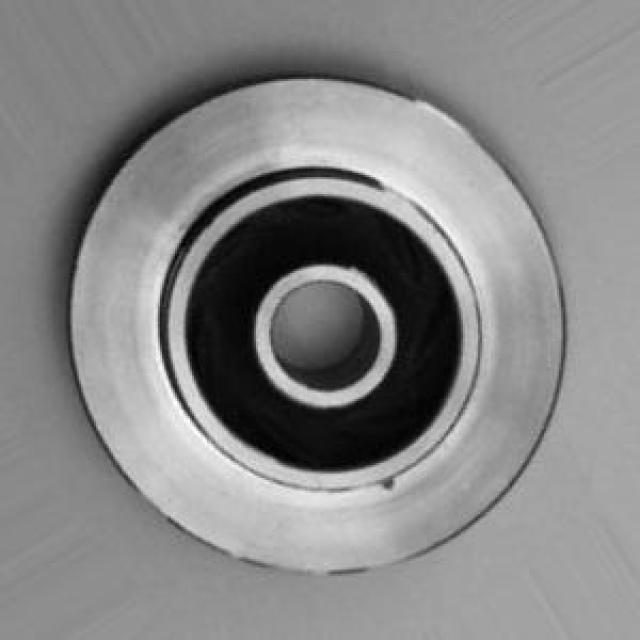Defect: (362, 474, 411, 505)
